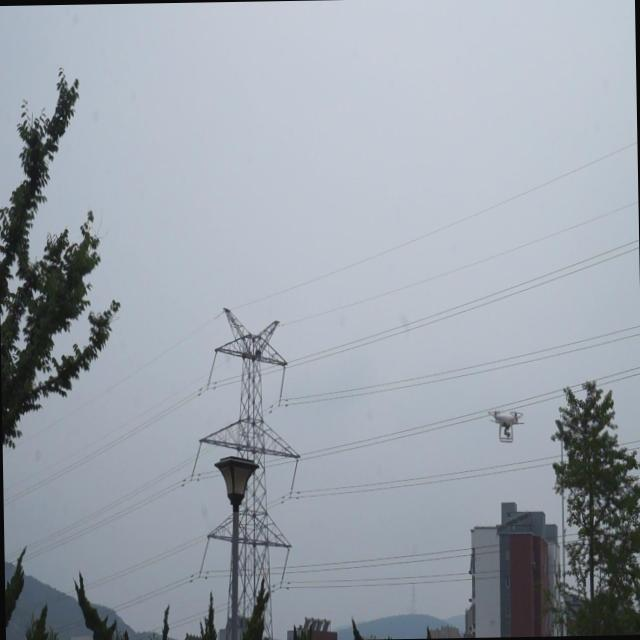drone: (487, 404, 527, 446)
